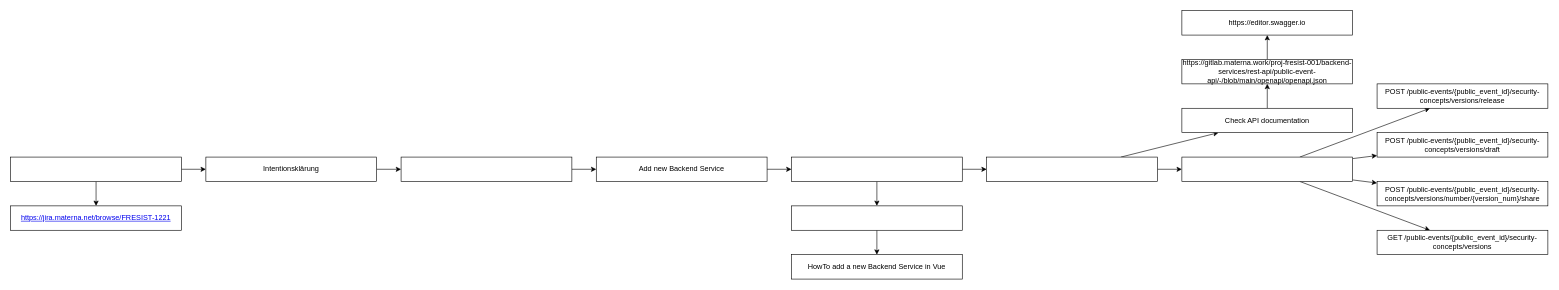
This 1559x290 diagram has some shape labels left out. The centre of each missing label's shape, as x and y in pixels:
"Check anzubindene Endpunkte" goes at point 1267,168.
"Doku" goes at point 876,168.
"FRESIST-1221 - [FE] Frontend-/Backend-Verknüpfung: Version freigeben" goes at point 95,168.
"https://wiki.materna.net/x/oQHnHg" goes at point 876,217.
"Next Steps" goes at point 1071,168.
"Was für eine Art Problem soll gelöst werden?" goes at point 486,168.
